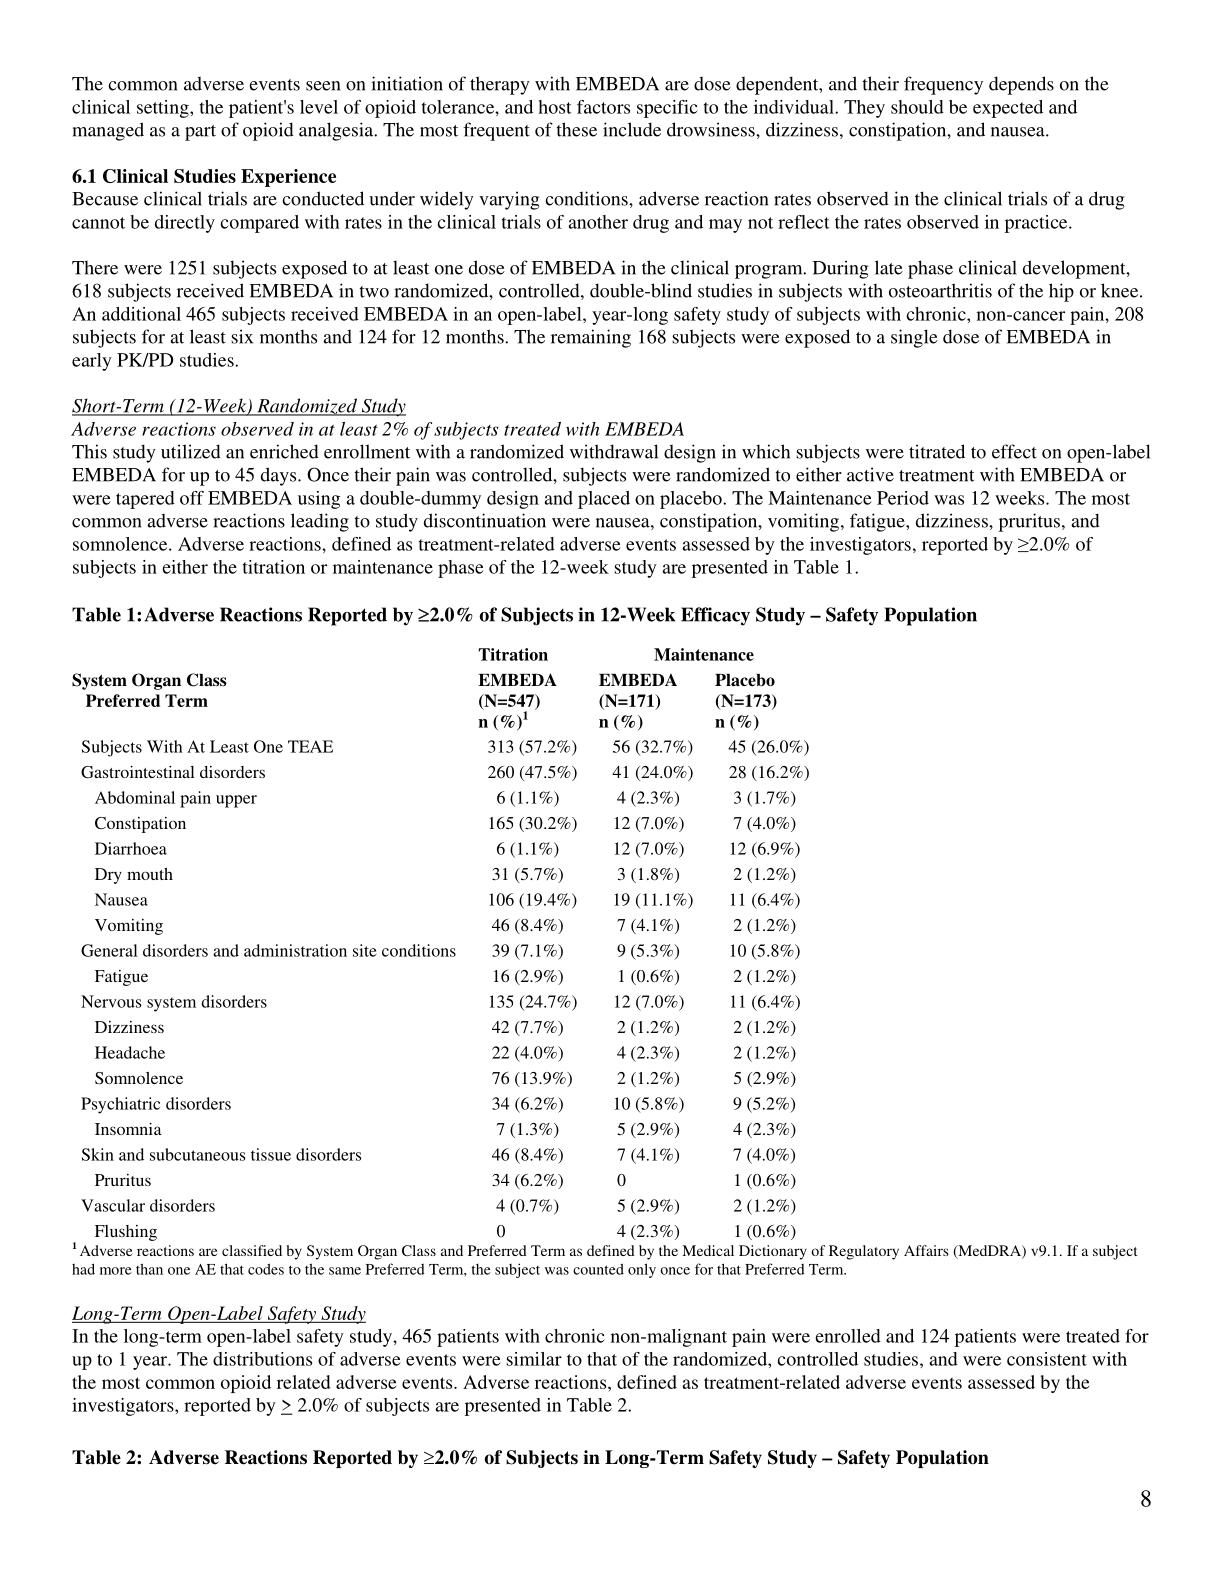nolines: (75, 645, 811, 1242)
